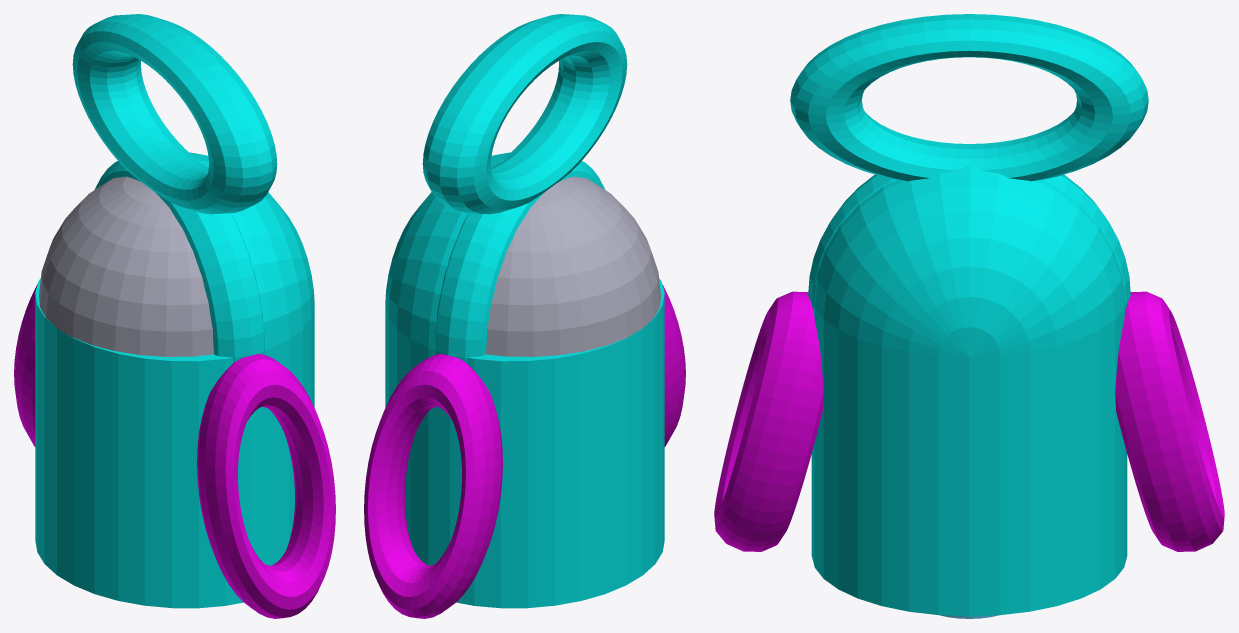
The model's file is donutman.fbx.
3 renders of one model, left to right at view 1: azimuth 30°, elevation 25°; view 2: azimuth 150°, elevation 25°; view 3: azimuth 270°, elevation 25°, orthographic. The views are drawn at different scales.
Parts seen in each view (by area): view 1: Cylinder, Torus.002, Sphere, Torus.001, Torus, Sphere.001, Torus.003; view 2: Cylinder, Torus.002, Sphere, Torus.003, Torus, Sphere.001, Torus.001; view 3: Cylinder, Sphere.001, Torus.002, Torus.001, Torus.003, Torus.
Boxes of the visible parts, x1,y1,x2,y2 form: Cylinder: [35, 278, 314, 608]; Torus.002: [72, 14, 277, 214]; Sphere: [39, 176, 213, 356]; Torus.001: [197, 354, 335, 618]; Torus: [95, 161, 264, 362]; Sphere.001: [189, 152, 314, 349]; Torus.003: [14, 284, 37, 446]; Cylinder: [385, 278, 664, 608]; Torus.002: [422, 14, 627, 214]; Sphere: [486, 176, 660, 356]; Torus.003: [364, 354, 502, 618]; Torus: [435, 161, 604, 362]; Sphere.001: [385, 152, 510, 349]; Torus.001: [662, 284, 685, 446]; Cylinder: [811, 304, 1127, 616]; Sphere.001: [814, 166, 1124, 356]; Torus.002: [790, 14, 1148, 181]; Torus.001: [714, 291, 823, 551]; Torus.003: [1115, 291, 1224, 551]; Torus: [808, 174, 1130, 308].
Bounding box in the file's own units: 200 × 443 × 356.
